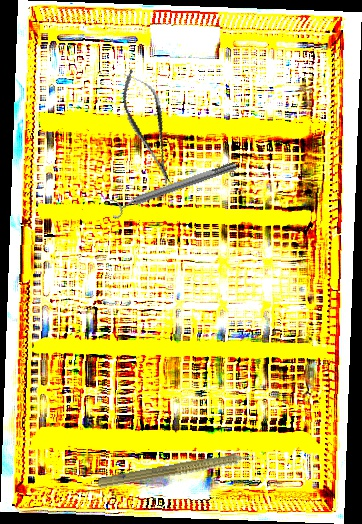Fixation Ring: (107, 155, 240, 221)
Handpiece: (96, 445, 271, 495)
Micro Scissor: (112, 63, 185, 191)
